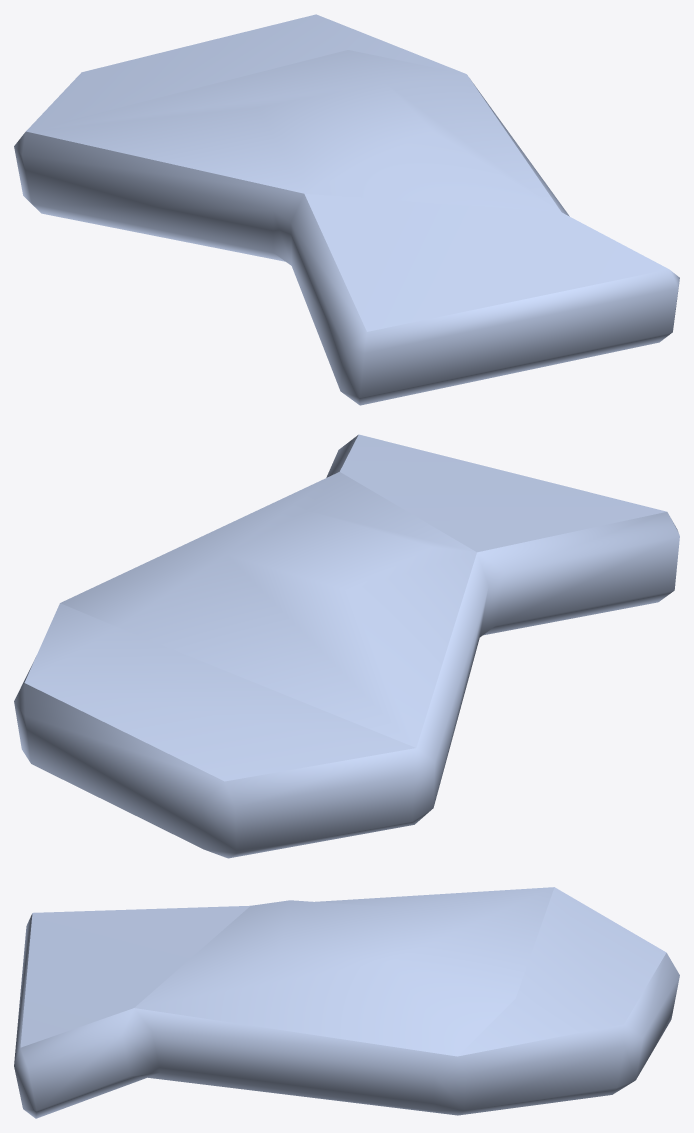
The model's file is floe_ind_9.fbx.
The picture shows the model from 3 angles, top to bottom: view 1: azimuth 30°, elevation 25°; view 2: azimuth 150°, elevation 25°; view 3: azimuth 270°, elevation 25°; orthographic projection. The views are drawn at different scales.
Visible parts, largest first — view 1: Plane.024; view 2: Plane.024; view 3: Plane.024.
Boxes of the visible parts, left/top/right/bottom form: Plane.024: left=14, top=14, right=679, bottom=405; Plane.024: left=14, top=434, right=679, bottom=858; Plane.024: left=14, top=887, right=679, bottom=1118.
Size of the model in its own units: 231 by 78.7 by 366.
